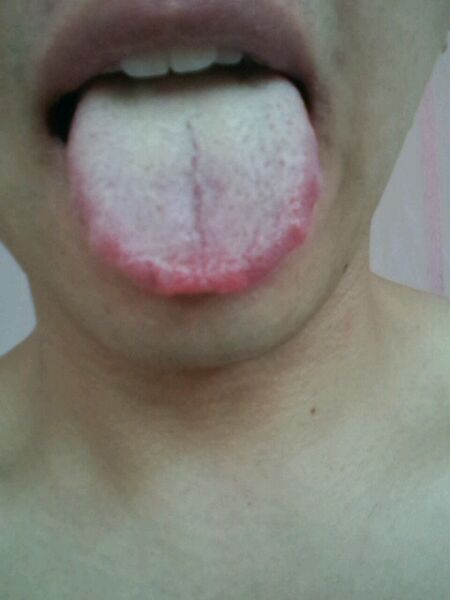baitaishe: (65, 65, 321, 298)
hongshe: (65, 65, 321, 298)
liewenshe: (181, 119, 205, 248)
